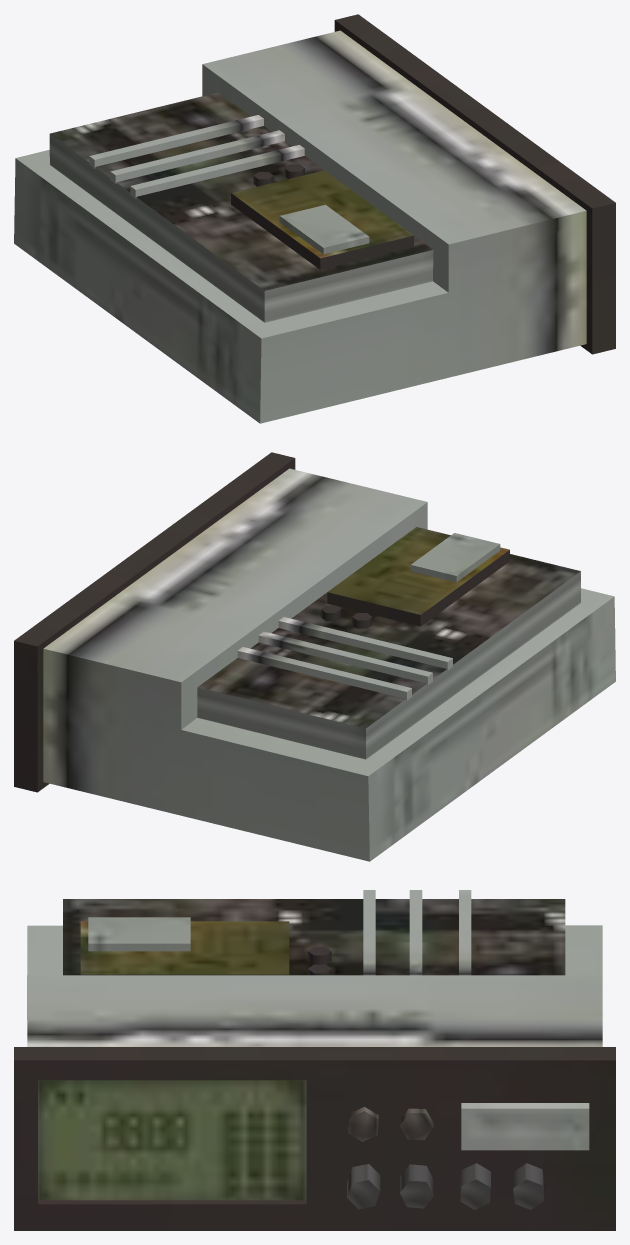
File: reciever01d.glb
The picture shows the model from 3 angles, top to bottom: view 1: azimuth 30°, elevation 25°; view 2: azimuth 150°, elevation 25°; view 3: azimuth 270°, elevation 25°; orthographic projection. The views are drawn at different scales.
Visible parts, largest first — view 1: 0_lab_objects02; view 2: 0_lab_objects02; view 3: 0_lab_objects02.
Boxes of the visible parts, x1,y1,x2,y2 form: 0_lab_objects02: (14, 14, 615, 423); 0_lab_objects02: (14, 452, 615, 861); 0_lab_objects02: (14, 890, 615, 1230).
Bounding box in the file's own units: 0.2337 × 0.0862 × 0.2756.
1 material, 1 textured.
